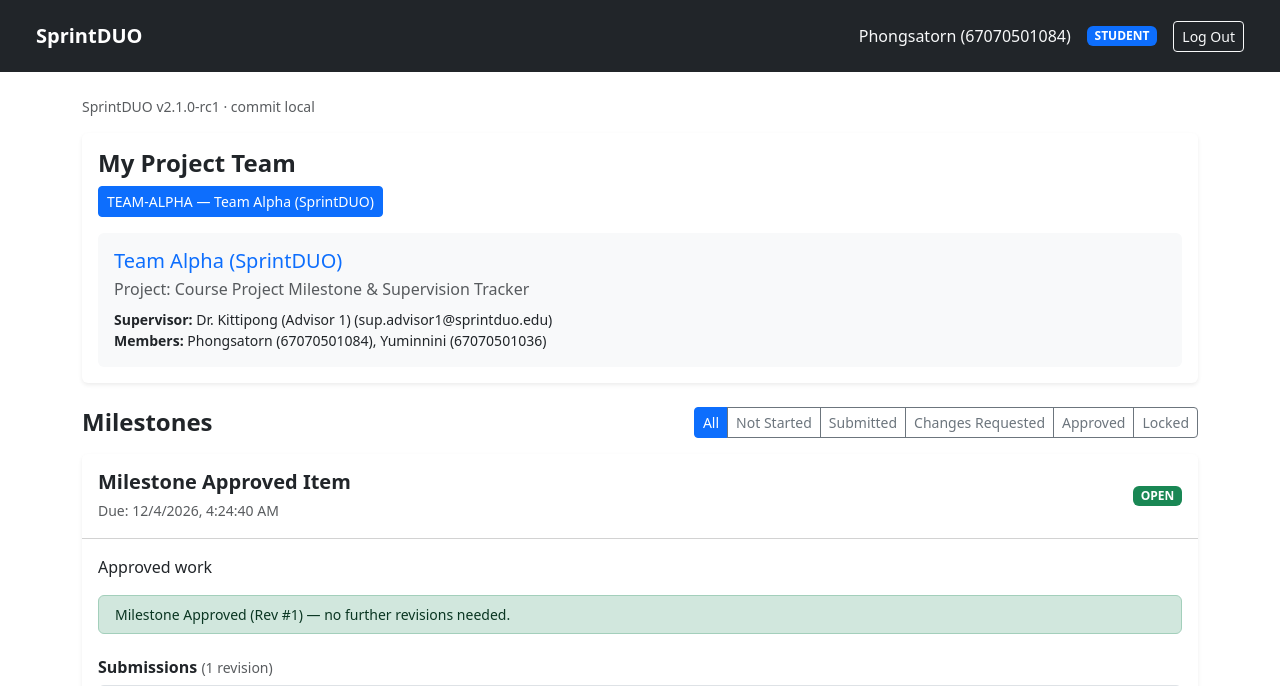
Test case: SprintDUO Client UI — TEST-03 & TEST-04 Student Submission & Persisted View › TEST-10 (Sprint 2 F-03a): filters milestones via status filter bar and requests ?status=...
Expected: the heading "Milestone Approved Item" is shown, x1=98 y1=470 x2=351 y2=494
Click the button with test id "milestone-filter-LOCKED": (1166, 422) x1=1134 y1=407 x2=1198 y2=438
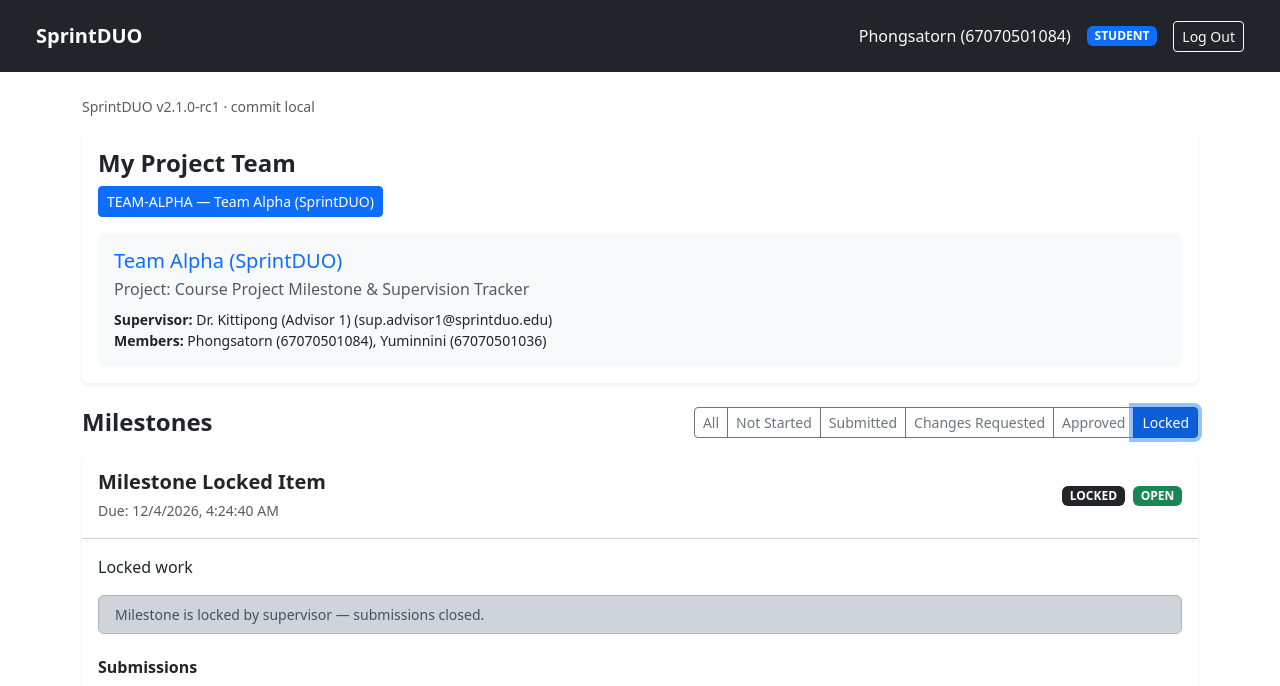
Expected: the heading "Milestone Locked Item" is shown, x1=98 y1=470 x2=326 y2=494
Result: the heading "Milestone Approved Item" is gone
